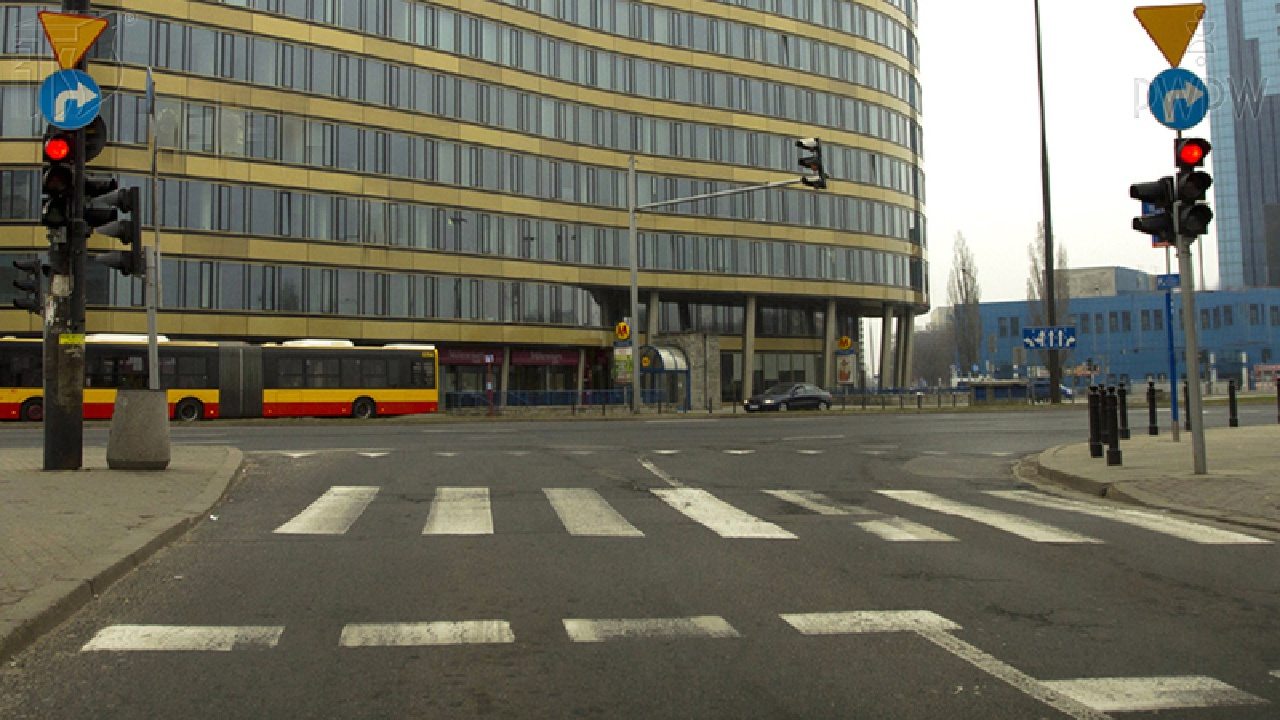A7: (1133, 3, 1207, 69), (36, 9, 108, 71)
C2: (1147, 69, 1210, 131), (38, 69, 101, 128)
Red: (1179, 139, 1206, 235), (45, 133, 72, 221)
